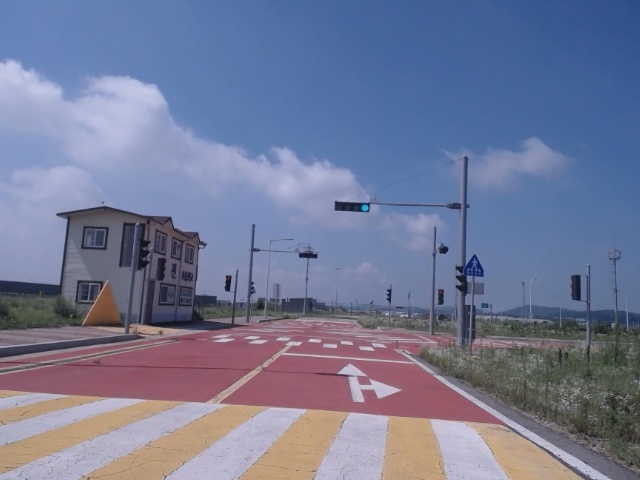straight_green_4: (334, 203, 370, 212)
